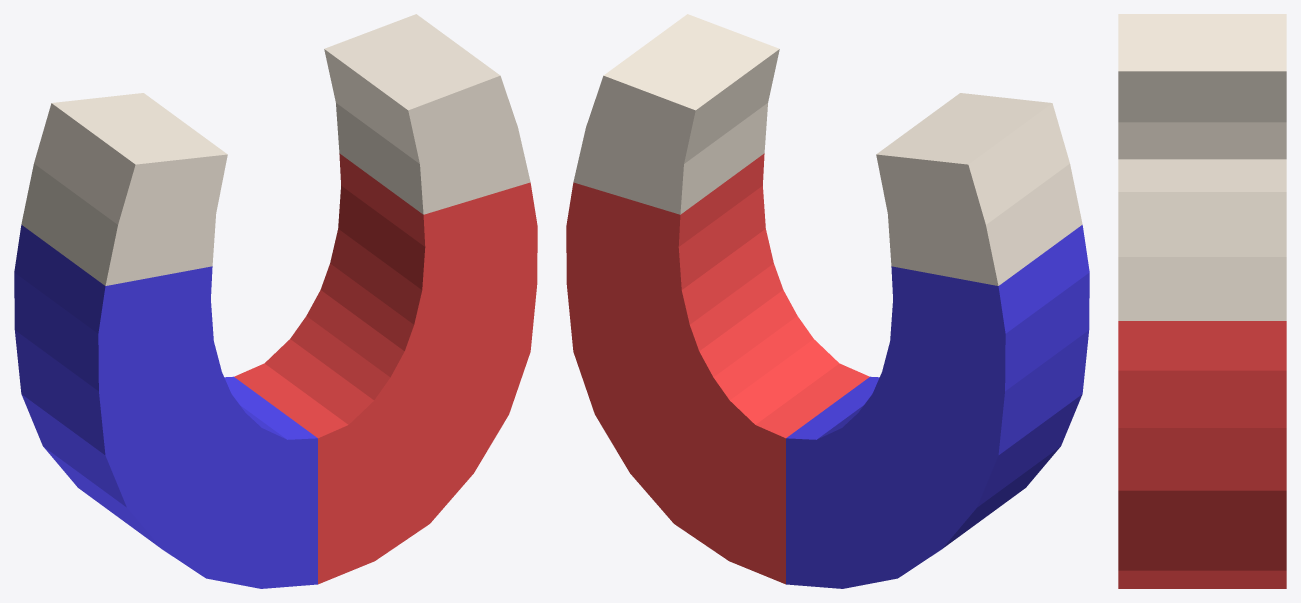
Rendered from magnet.fbx.
The picture shows the model from 3 angles, left to right: view 1: azimuth 30°, elevation 25°; view 2: azimuth 150°, elevation 25°; view 3: azimuth 270°, elevation 25°; orthographic projection.
Parts seen in each view (by area): view 1: magnet; view 2: magnet; view 3: magnet.
Boxes of the visible parts, x1,y1,x2,y2 form: magnet: (14, 14, 537, 588); magnet: (566, 14, 1089, 588); magnet: (1118, 14, 1286, 588).
Size of the model in its own units: 99.22 by 100 by 32.91.
